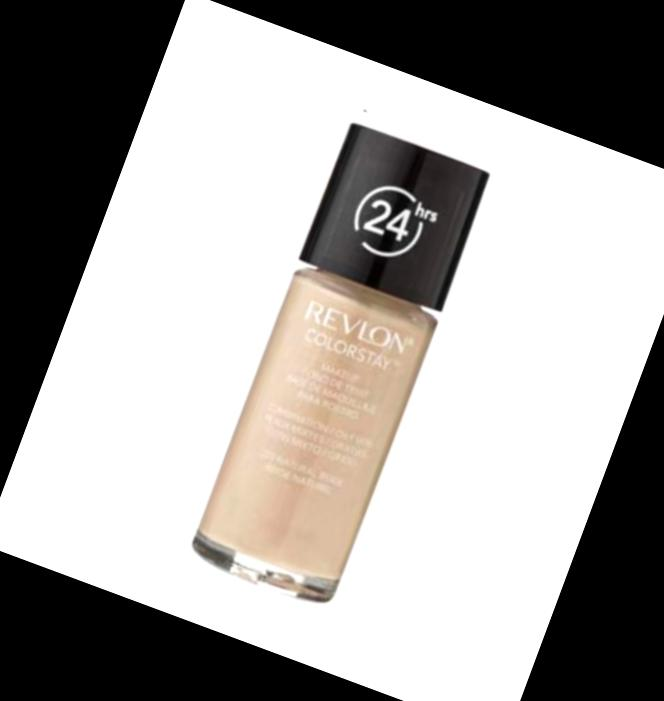cosmetic: (186, 121, 491, 606)
